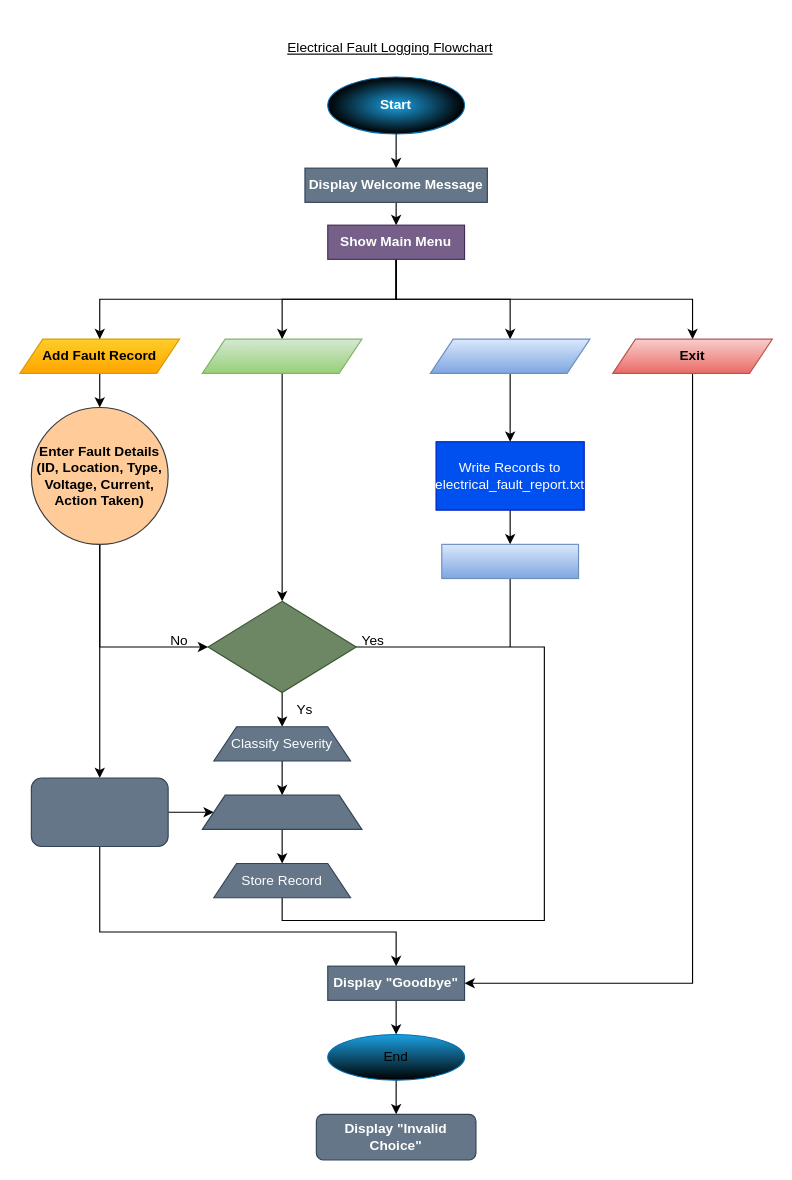
Image size: 792x1180. Some labels were removed from this diagram. Here are the shapes that lost their labels. From the top down, the box of each, then its label:
(201, 338, 362, 373): View All Faults
(429, 338, 590, 373): Save Report
(441, 543, 579, 579): Write Summary to file
(207, 600, 356, 693): Valid Readings?
(30, 777, 168, 846): Display "Invalid Input"
(201, 794, 362, 829): Display Fault Report
